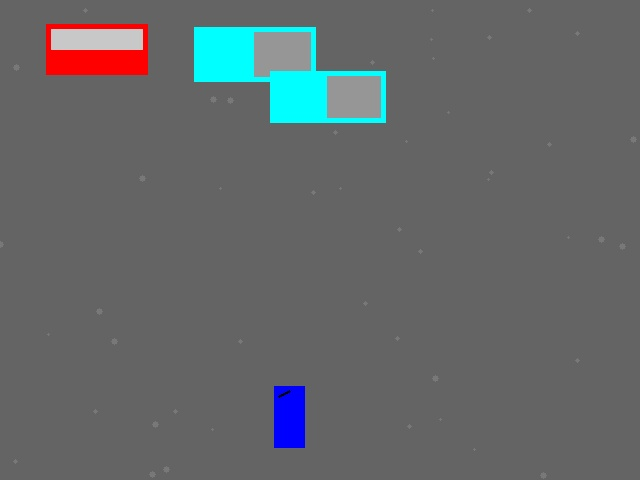car: (46, 24, 147, 74)
motorcycle: (274, 386, 304, 447)
truck: (194, 27, 315, 81), (270, 71, 385, 122)
